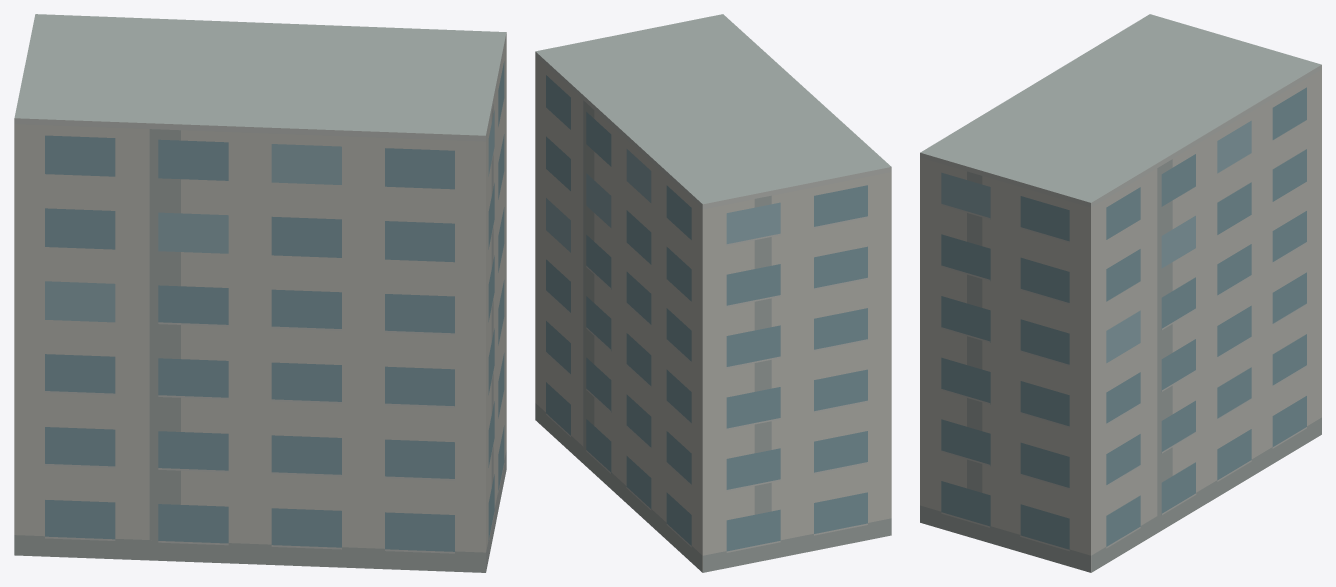
Rendered from survey-upis-33013460.glb.
3 renders of one model, left to right at view 1: azimuth 30°, elevation 25°; view 2: azimuth 150°, elevation 25°; view 3: azimuth 270°, elevation 25°, orthographic. The views are drawn at different scales.
Parts seen in each view (by area): view 1: survey-upis-33013460.tmp; view 2: survey-upis-33013460.tmp; view 3: survey-upis-33013460.tmp.
Part boxes in pixels (box(x1,y1,x2,y2)): survey-upis-33013460.tmp: box(14, 14, 506, 572); survey-upis-33013460.tmp: box(535, 14, 891, 572); survey-upis-33013460.tmp: box(920, 14, 1321, 572).
Size of the model in its own units: 20.05 by 18.3 by 18.02.
